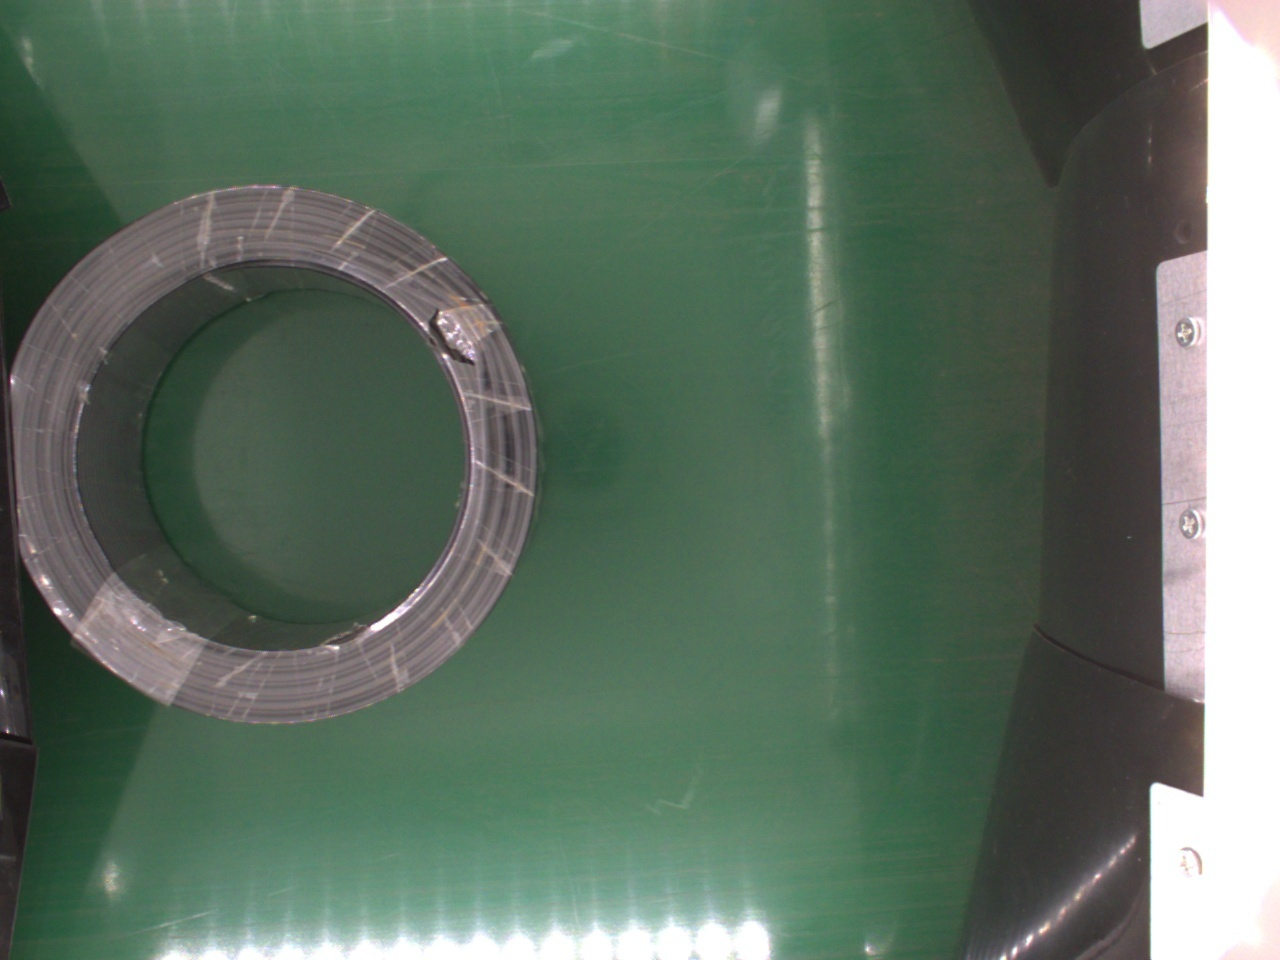black: (4, 182, 539, 731)
